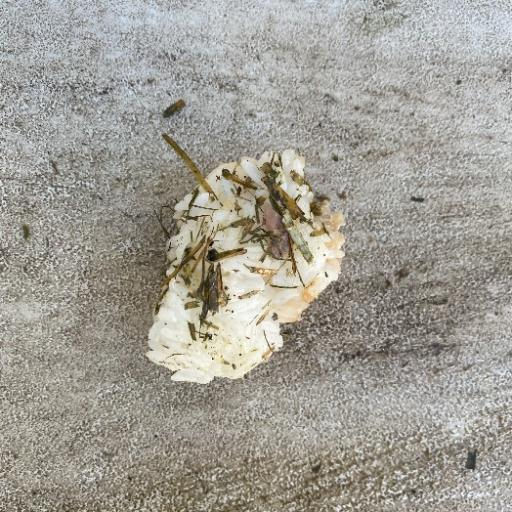Waste: (144, 134, 347, 385)
